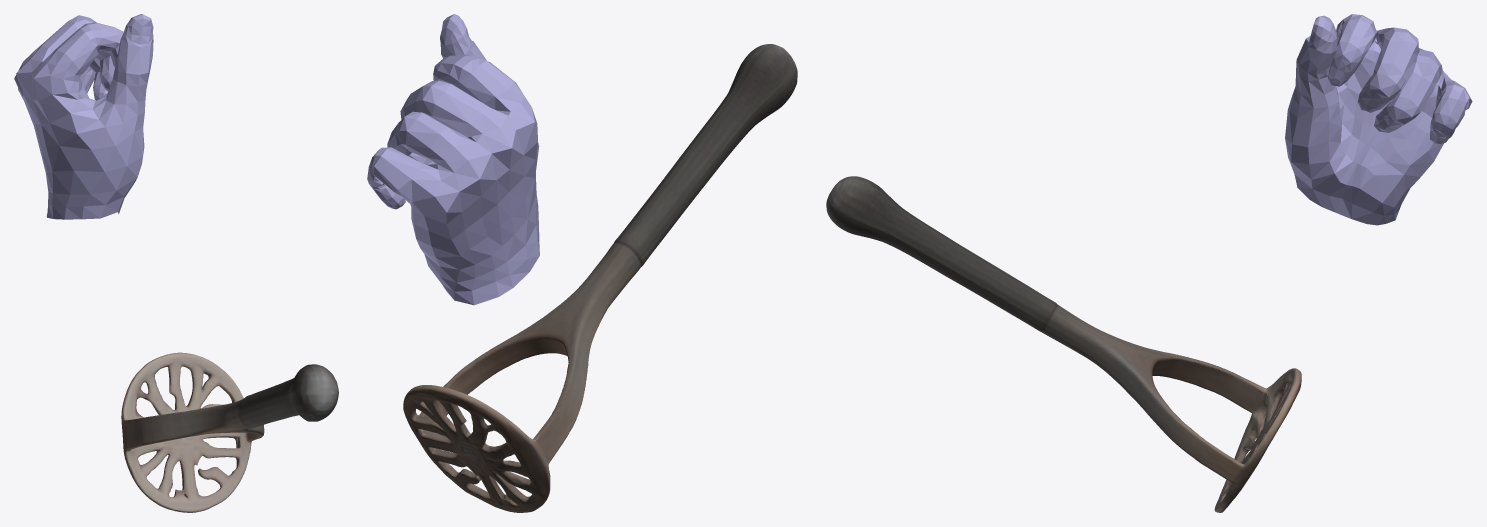
File: frame_0078_source_000078_hand_object.glb
3 renders of one model, left to right at view 1: azimuth 30°, elevation 25°; view 2: azimuth 150°, elevation 25°; view 3: azimuth 270°, elevation 25°, orthographic. The views are drawn at different scales.
Visible parts, largest first — view 1: world; view 2: world; view 3: world.
Part boxes in pixels (box(x1,y1,x2,y2)): world: box(14, 14, 338, 512); world: box(367, 14, 797, 512); world: box(826, 14, 1472, 512).
Size of the model in its own units: 0.0981 by 0.2703 by 0.3253.
